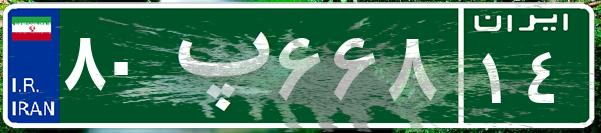0: (110, 28, 158, 105)
1: (475, 38, 525, 113)
4: (525, 38, 570, 115)
6: (273, 28, 330, 110), (330, 28, 385, 110)
8: (385, 28, 445, 110), (57, 26, 110, 107)
پ: (158, 15, 273, 115)
